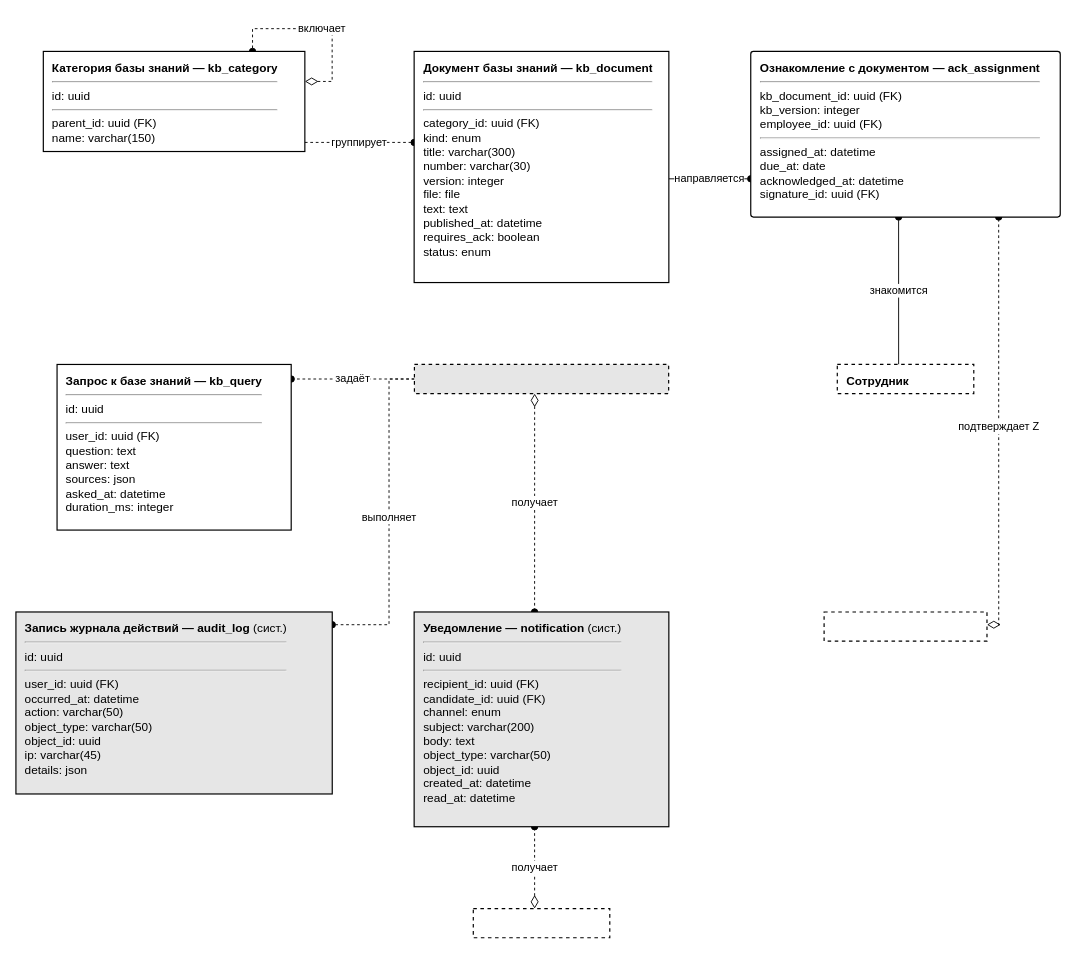
Some shapes in this 1077 by 956 pixel diagram are drawn without their labels. Each missing label, with the centre of its shape:
Кандидат: the point at 541,923
Подпись документа: the point at 905,626
Пользователь (сист.): the point at 541,378
